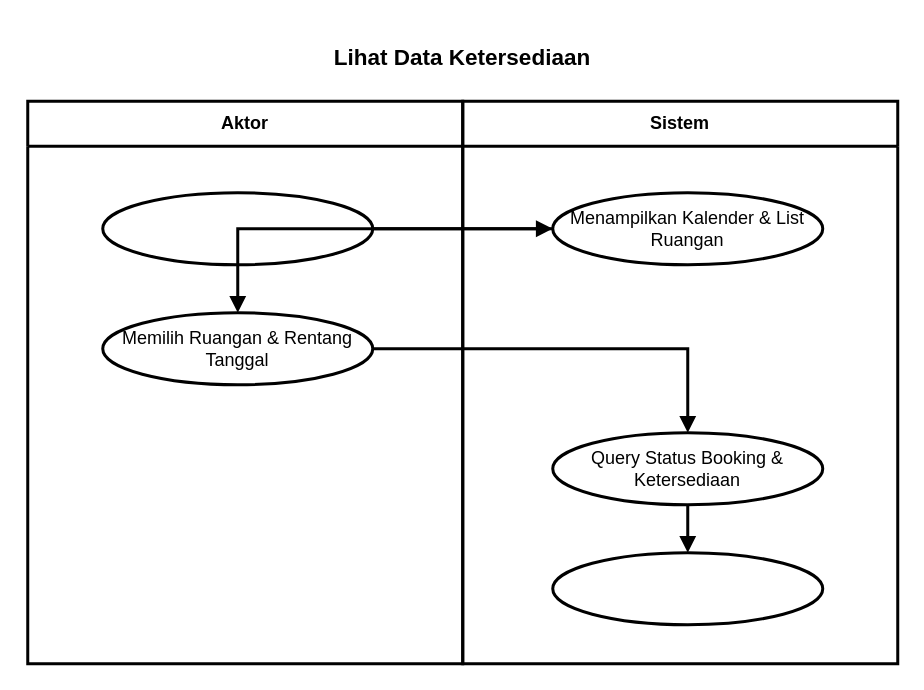
This 924x690 diagram has some shape labels left out. The centre of each missing label's shape, as x and y in pixels:
"Membuka Halaman Cek Ketersediaan" goes at pixel 237 228.
"Menampilkan Status Jadwal (Hijau/Merah)" goes at pixel 687 588.
